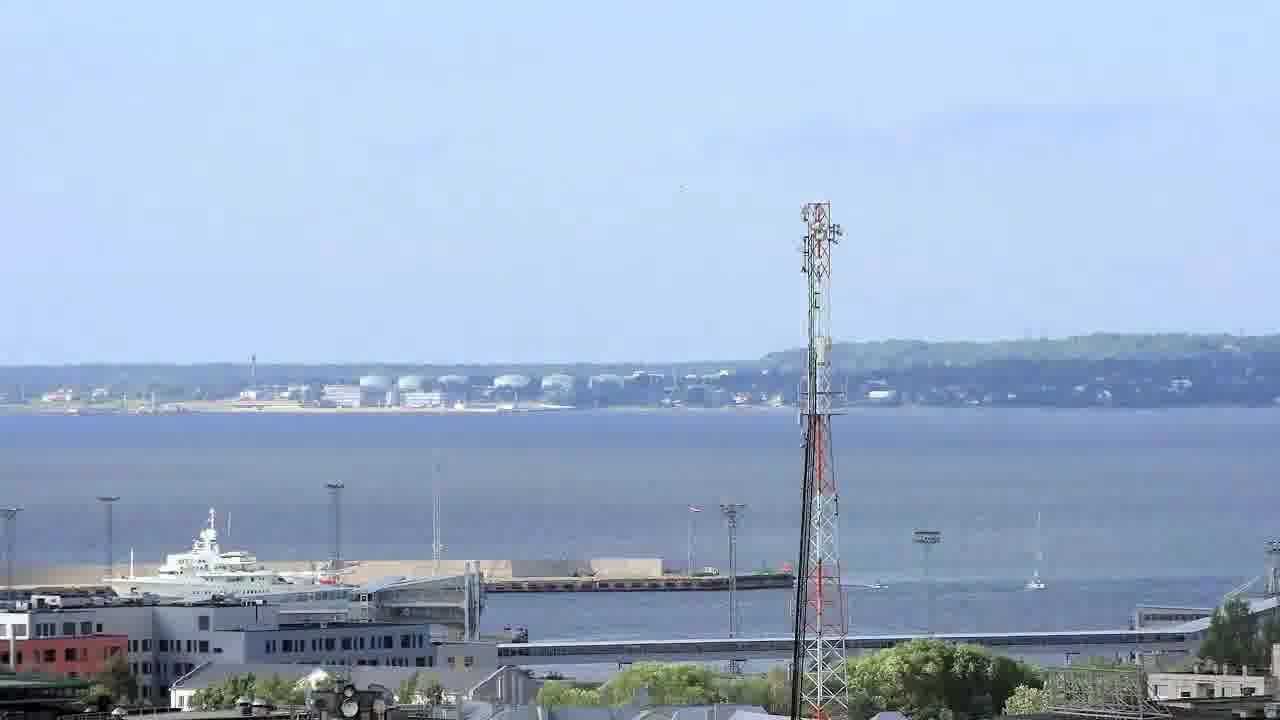type-0: (1007, 546, 1058, 611)
type-3: (88, 507, 346, 605)
